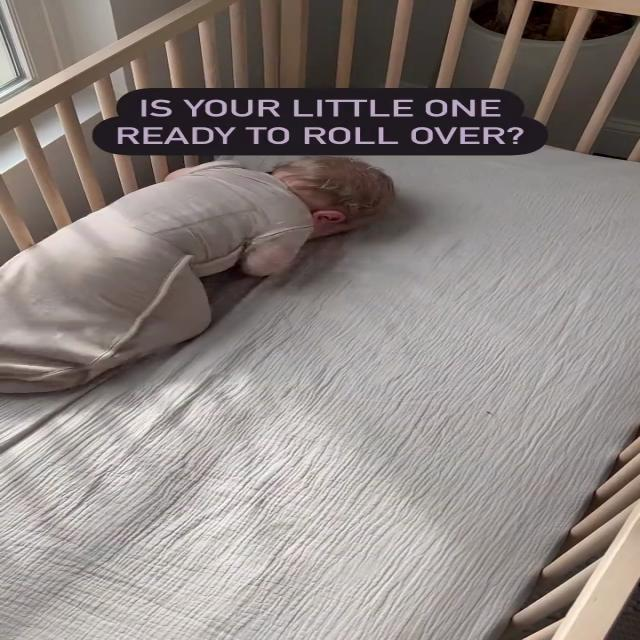baby: (0, 147, 405, 411)
